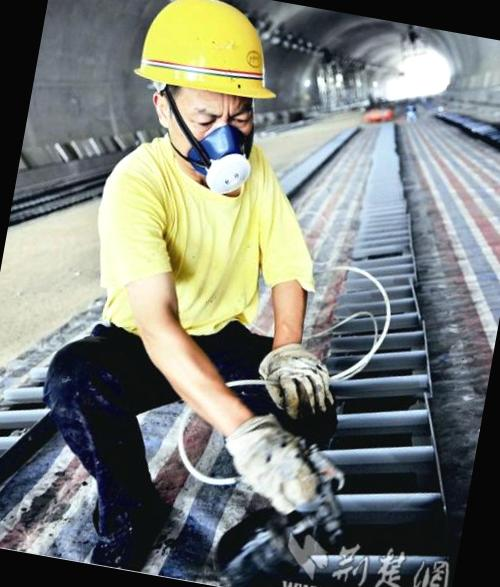person: (12, 0, 448, 587)
